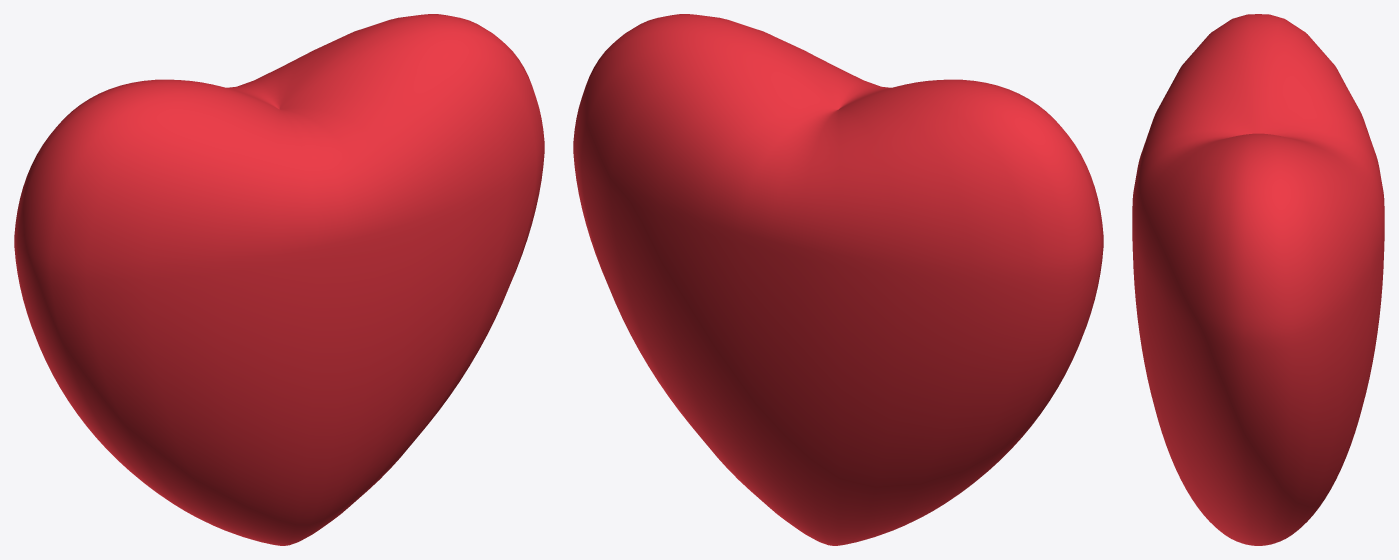
File: heart.glb
The picture shows the model from 3 angles, left to right: view 1: azimuth 30°, elevation 25°; view 2: azimuth 150°, elevation 25°; view 3: azimuth 270°, elevation 25°; orthographic projection. The views are drawn at different scales.
Parts seen in each view (by area): view 1: SurfSphere; view 2: SurfSphere; view 3: SurfSphere.
Boxes of the visible parts, bbox=[...] form: SurfSphere: bbox=[14, 14, 544, 545]; SurfSphere: bbox=[573, 14, 1103, 545]; SurfSphere: bbox=[1132, 14, 1384, 545].
Bounding box in the file's own units: 2.09 × 1.91 × 0.9611.
